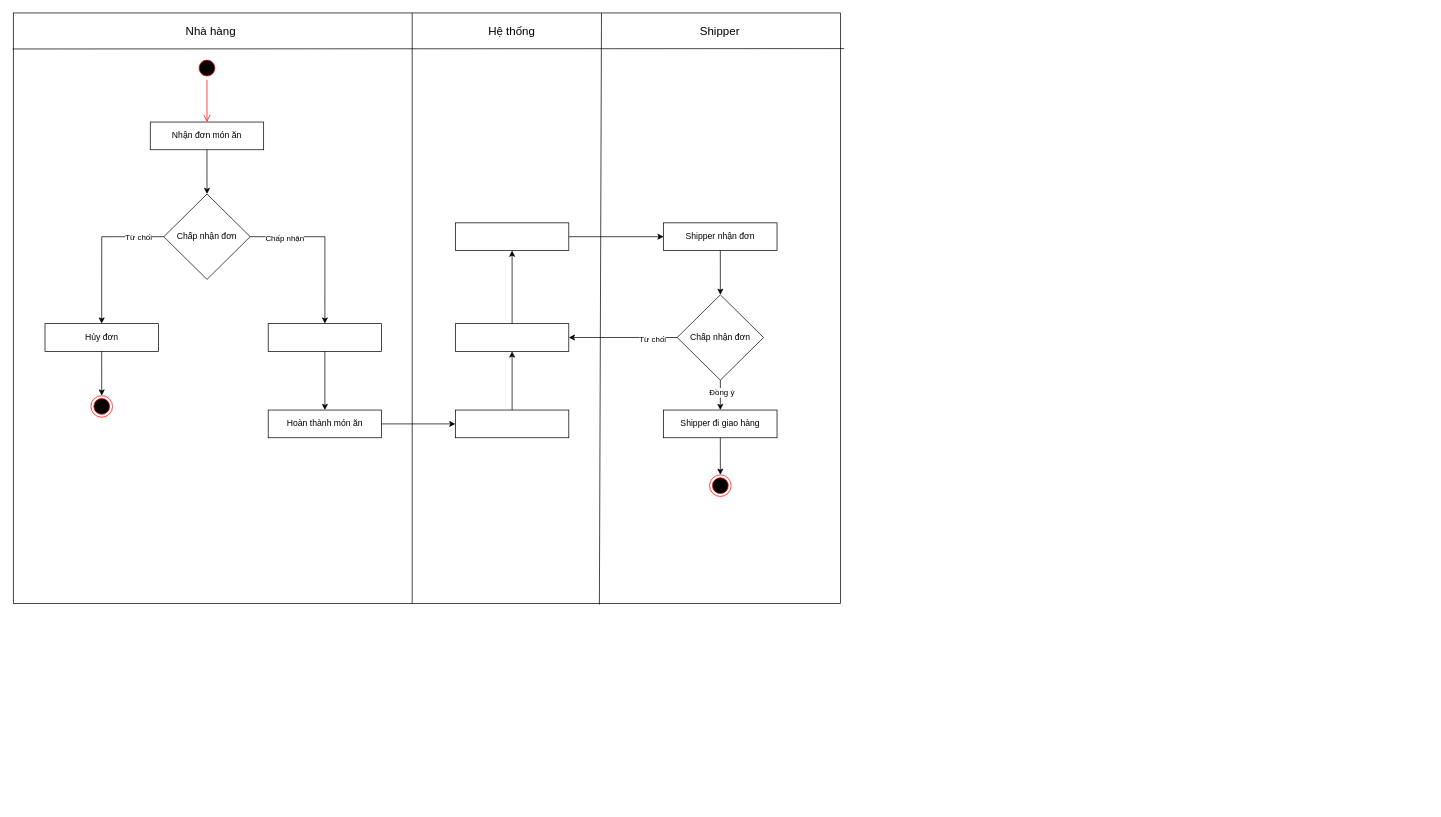
This 1441x817 diagram has some shape labels left out. The shapes that lost their labels are listed below. From the top down, each one's centre as x and y in pixels, then its label:
At (512,236): "Gửi thông báo đơn hàng cho shipper".
At (324,337): "Chuẩn bị món ăn".
At (512,337): "Tìm shipper gần nhất".
At (512,423): "Tạo đơn giao hàng".
